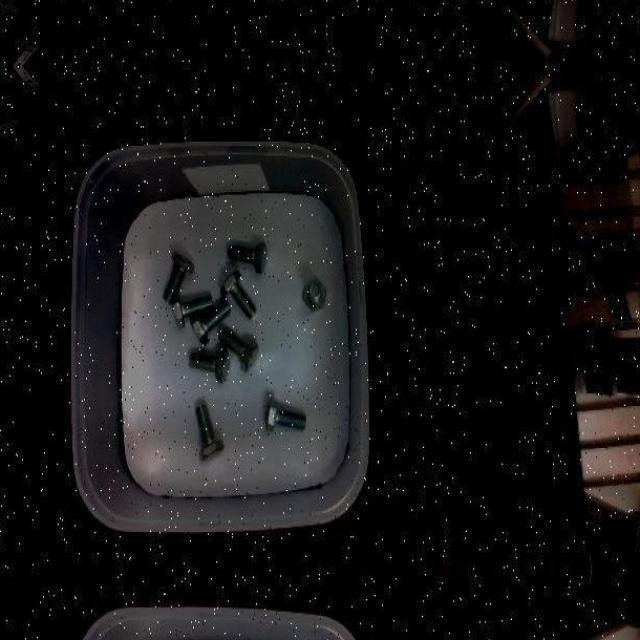screw: (220, 270, 257, 320), (190, 300, 231, 345), (219, 328, 259, 372), (163, 250, 195, 304), (196, 404, 226, 461), (172, 294, 214, 329), (266, 396, 306, 432), (189, 349, 230, 383), (228, 240, 266, 272), (304, 279, 328, 311)
